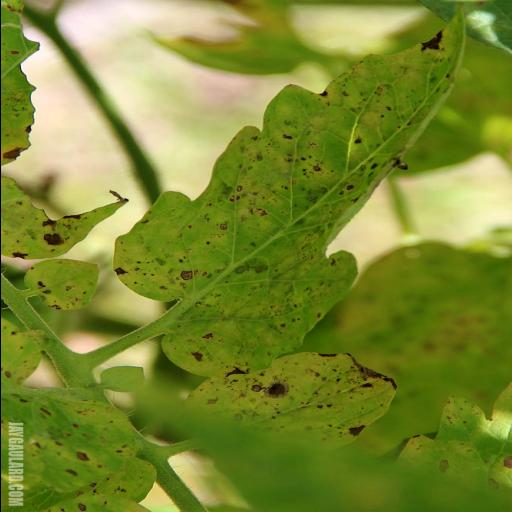Septoria: (111, 18, 471, 378), (179, 352, 402, 452), (22, 258, 110, 312)
